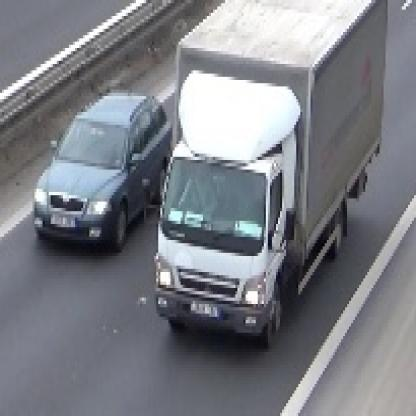truck: (151, 1, 387, 334)
